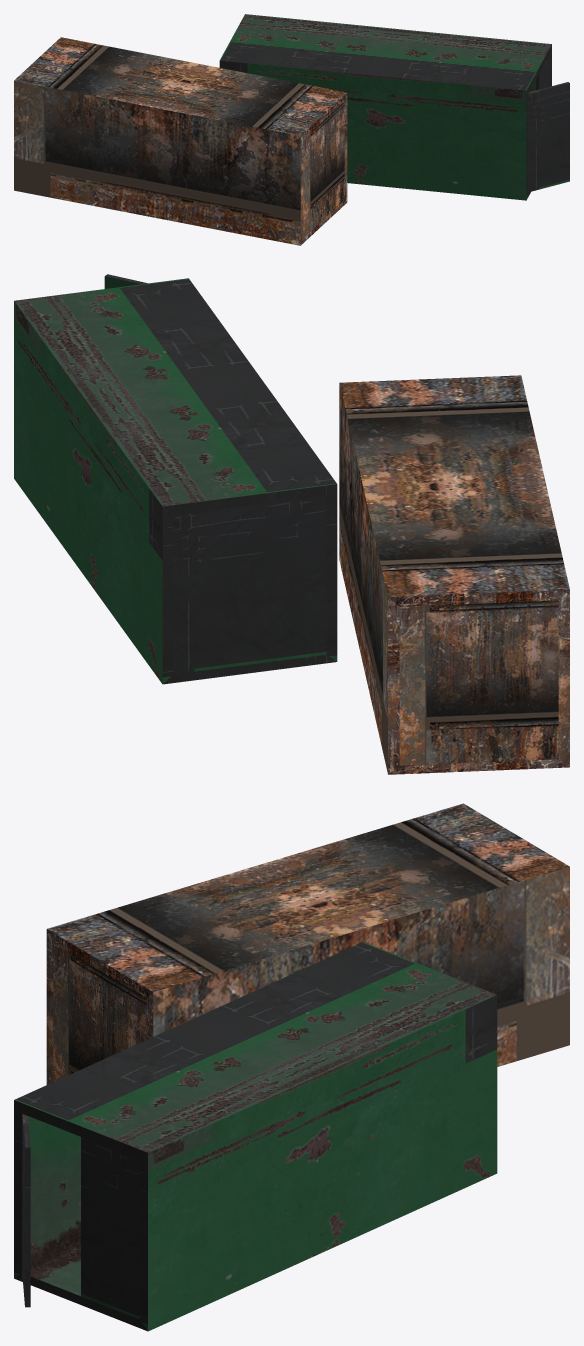
The model's file is Container5_Closed1.fbx.
3 renders of one model, top to bottom at view 1: azimuth 30°, elevation 25°; view 2: azimuth 150°, elevation 25°; view 3: azimuth 270°, elevation 25°, orthographic. The views are drawn at different scales.
Parts seen in each view (by area): view 1: Container5_Closed1; view 2: Container5_Closed1; view 3: Container5_Closed1.
Part boxes in pixels (bbox=[...]): Container5_Closed1: bbox=[14, 14, 569, 245]; Container5_Closed1: bbox=[14, 274, 569, 774]; Container5_Closed1: bbox=[14, 803, 569, 1331].
Bounding box in the file's own units: 1083 × 728 × 258.
